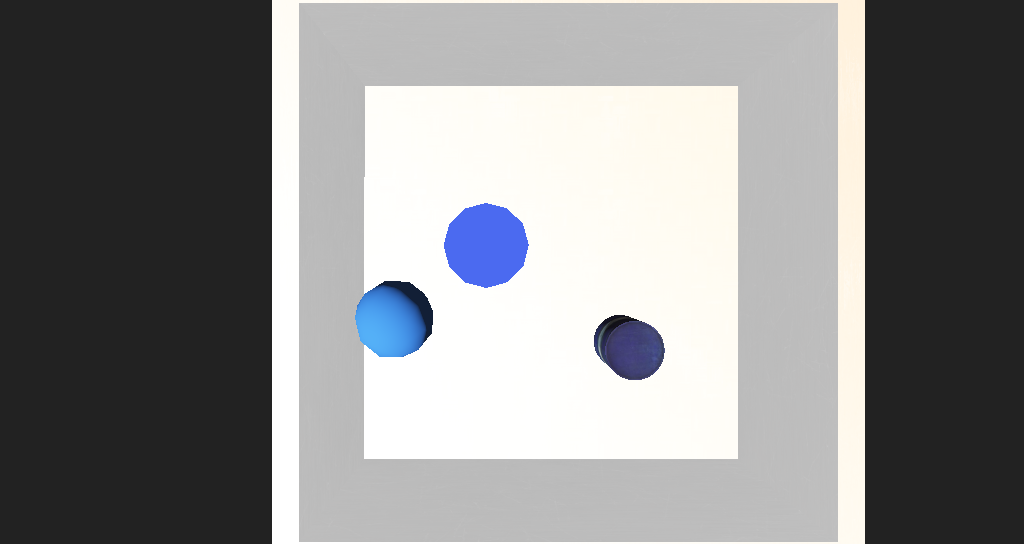cone: (539, 291, 593, 329)
cylinder: (418, 229, 485, 277)
sphere: (344, 274, 411, 317)
